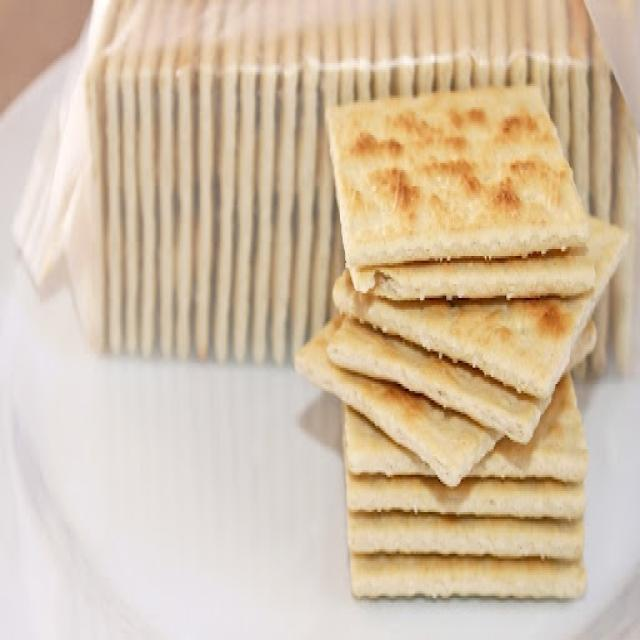Cracker: (318, 77, 632, 626)
